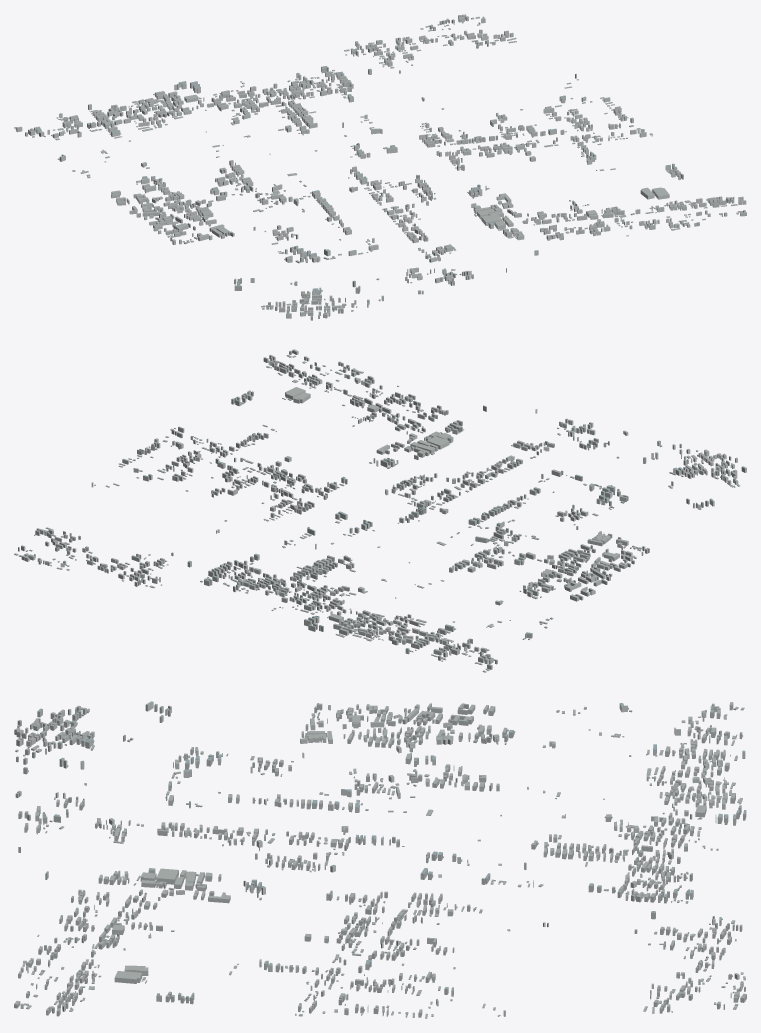
File: far.glb
3 views of the same model, one above another, from view 1: azimuth 30°, elevation 25°; view 2: azimuth 150°, elevation 25°; view 3: azimuth 270°, elevation 25° (orthographic). The views are drawn at different scales.
Bounding box in the file's own units: 2106 × 23.3 × 2094.
